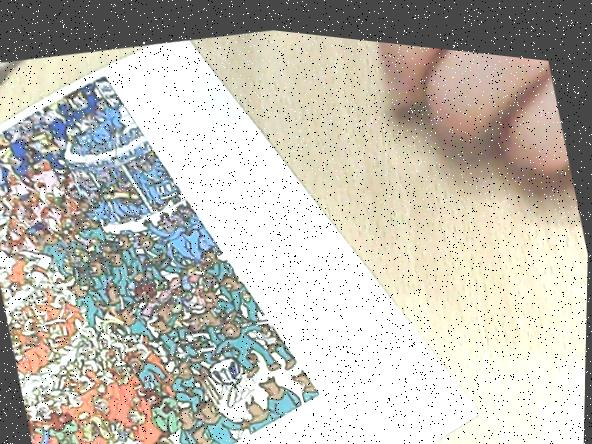waldo: (64, 173, 90, 203)
